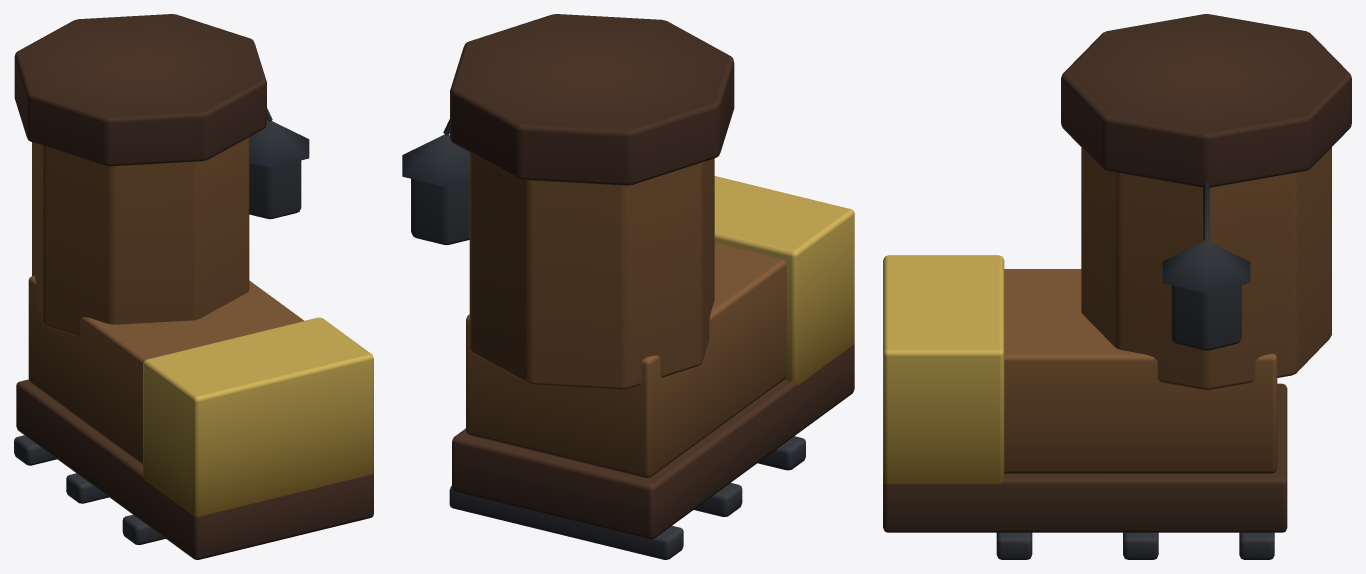
The model's file is lg_lamplighter_treads.glb.
3 renders of one model, left to right at view 1: azimuth 30°, elevation 25°; view 2: azimuth 150°, elevation 25°; view 3: azimuth 270°, elevation 25°, orthographic. The views are drawn at different scales.
Visible parts, largest first — view 1: lg_lamplighter_treads; view 2: lg_lamplighter_treads; view 3: lg_lamplighter_treads.
Boxes of the visible parts, left/top/right/bottom form: lg_lamplighter_treads: left=14, top=14, right=373, bottom=559; lg_lamplighter_treads: left=402, top=14, right=854, bottom=559; lg_lamplighter_treads: left=883, top=14, right=1351, bottom=559.
Size of the model in its own units: 0.7177 by 0.95 by 0.9277.
